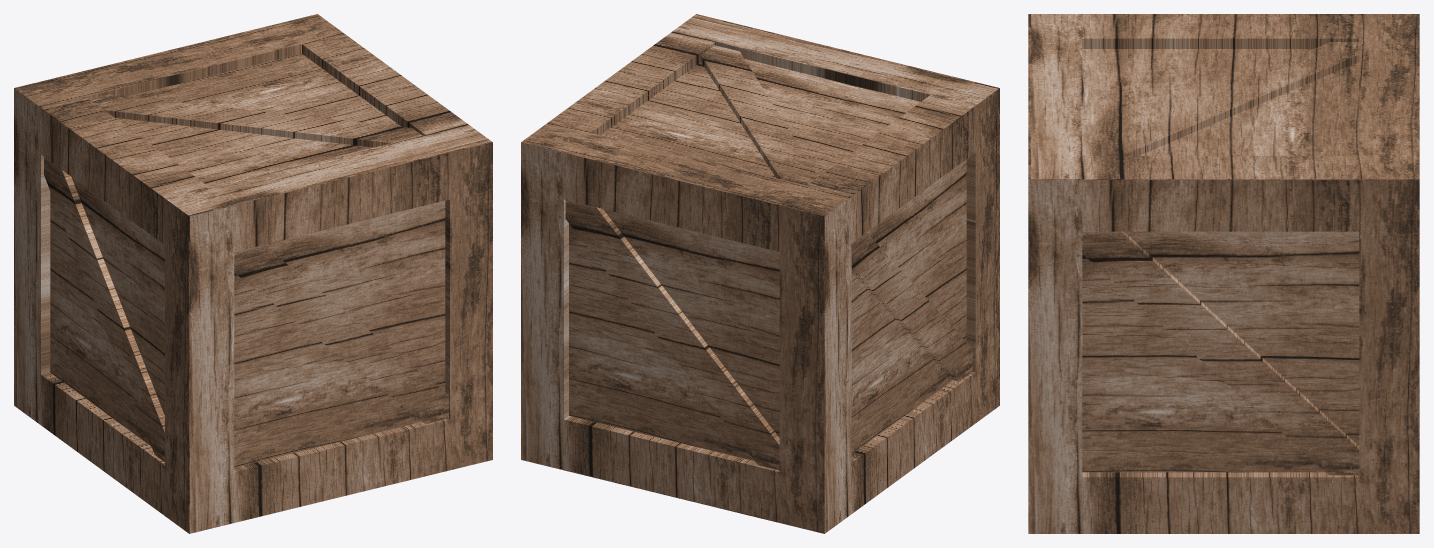
File: crate.fbx
3 views of the same model, side by side, from view 1: azimuth 30°, elevation 25°; view 2: azimuth 150°, elevation 25°; view 3: azimuth 270°, elevation 25° (orthographic). The views are drawn at different scales.
Parts seen in each view (by area): view 1: Cube; view 2: Cube; view 3: Cube.
Boxes of the visible parts, x1,y1,x2,y2 form: Cube: (14,14,492,533); Cube: (521,14,999,533); Cube: (1028,14,1419,533).
Bounding box in the file's own units: 200 × 200 × 200.
